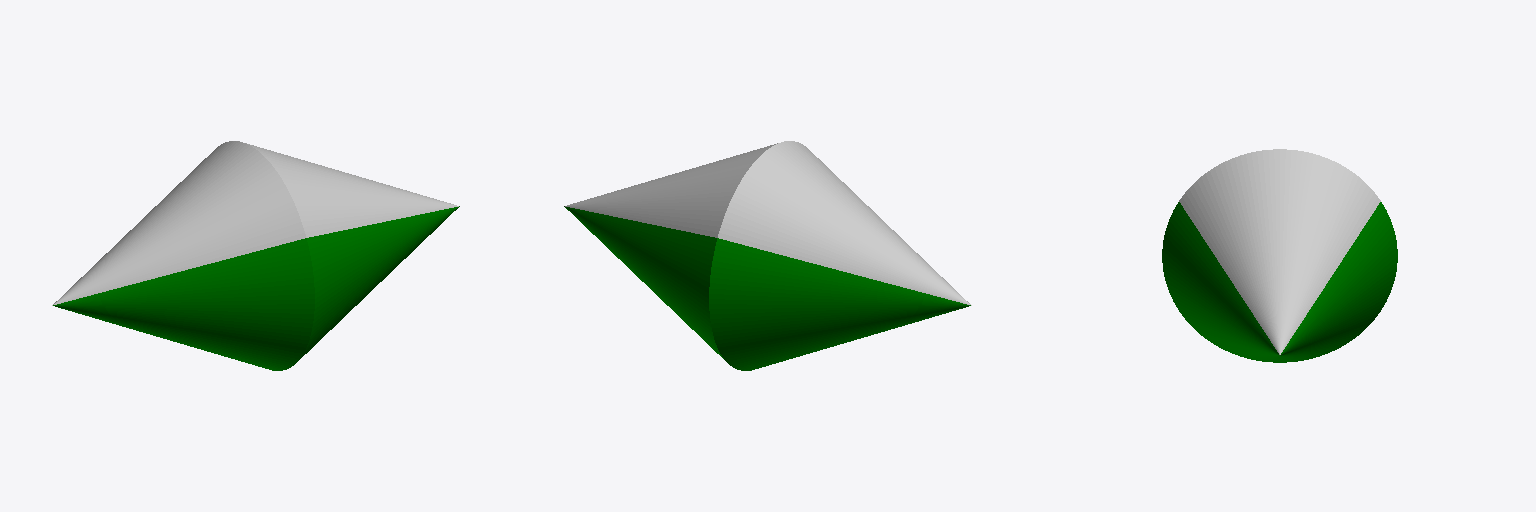
The model's file is Буй.obj.
3 renders of one model, left to right at view 1: azimuth 30°, elevation 25°; view 2: azimuth 150°, elevation 25°; view 3: azimuth 270°, elevation 25°, orthographic.
Size of the model in its own units: 20 by 10 by 10.